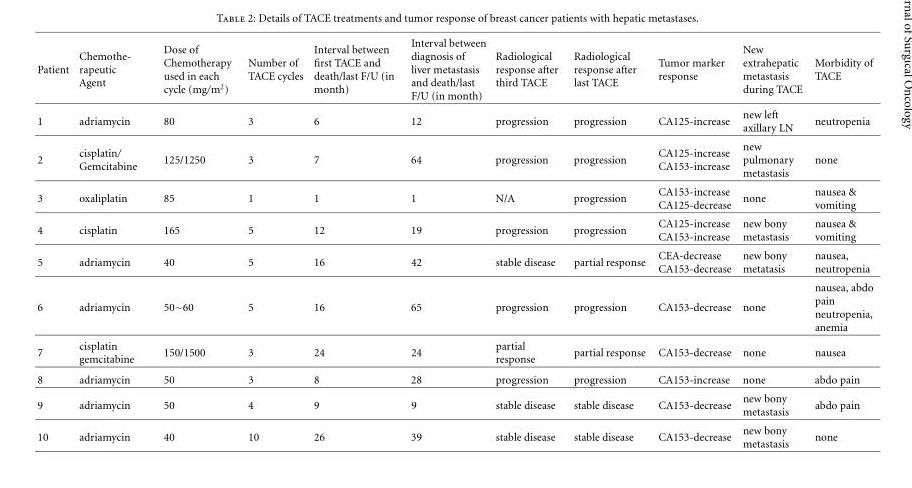table: (37, 36, 873, 449)
table column: (308, 36, 402, 449), (150, 36, 239, 449), (402, 36, 491, 449), (566, 36, 652, 449), (652, 36, 737, 449), (74, 36, 150, 449), (491, 36, 566, 449), (737, 36, 808, 449), (239, 36, 308, 449), (808, 36, 873, 449), (37, 36, 74, 449)
table column header: (37, 36, 873, 104)
table row: (37, 36, 873, 104), (37, 277, 873, 336), (37, 136, 873, 181), (37, 336, 873, 369), (37, 104, 873, 136), (37, 181, 873, 213), (37, 213, 873, 245), (37, 245, 873, 277), (37, 388, 873, 420), (37, 420, 873, 449), (37, 369, 873, 388)
